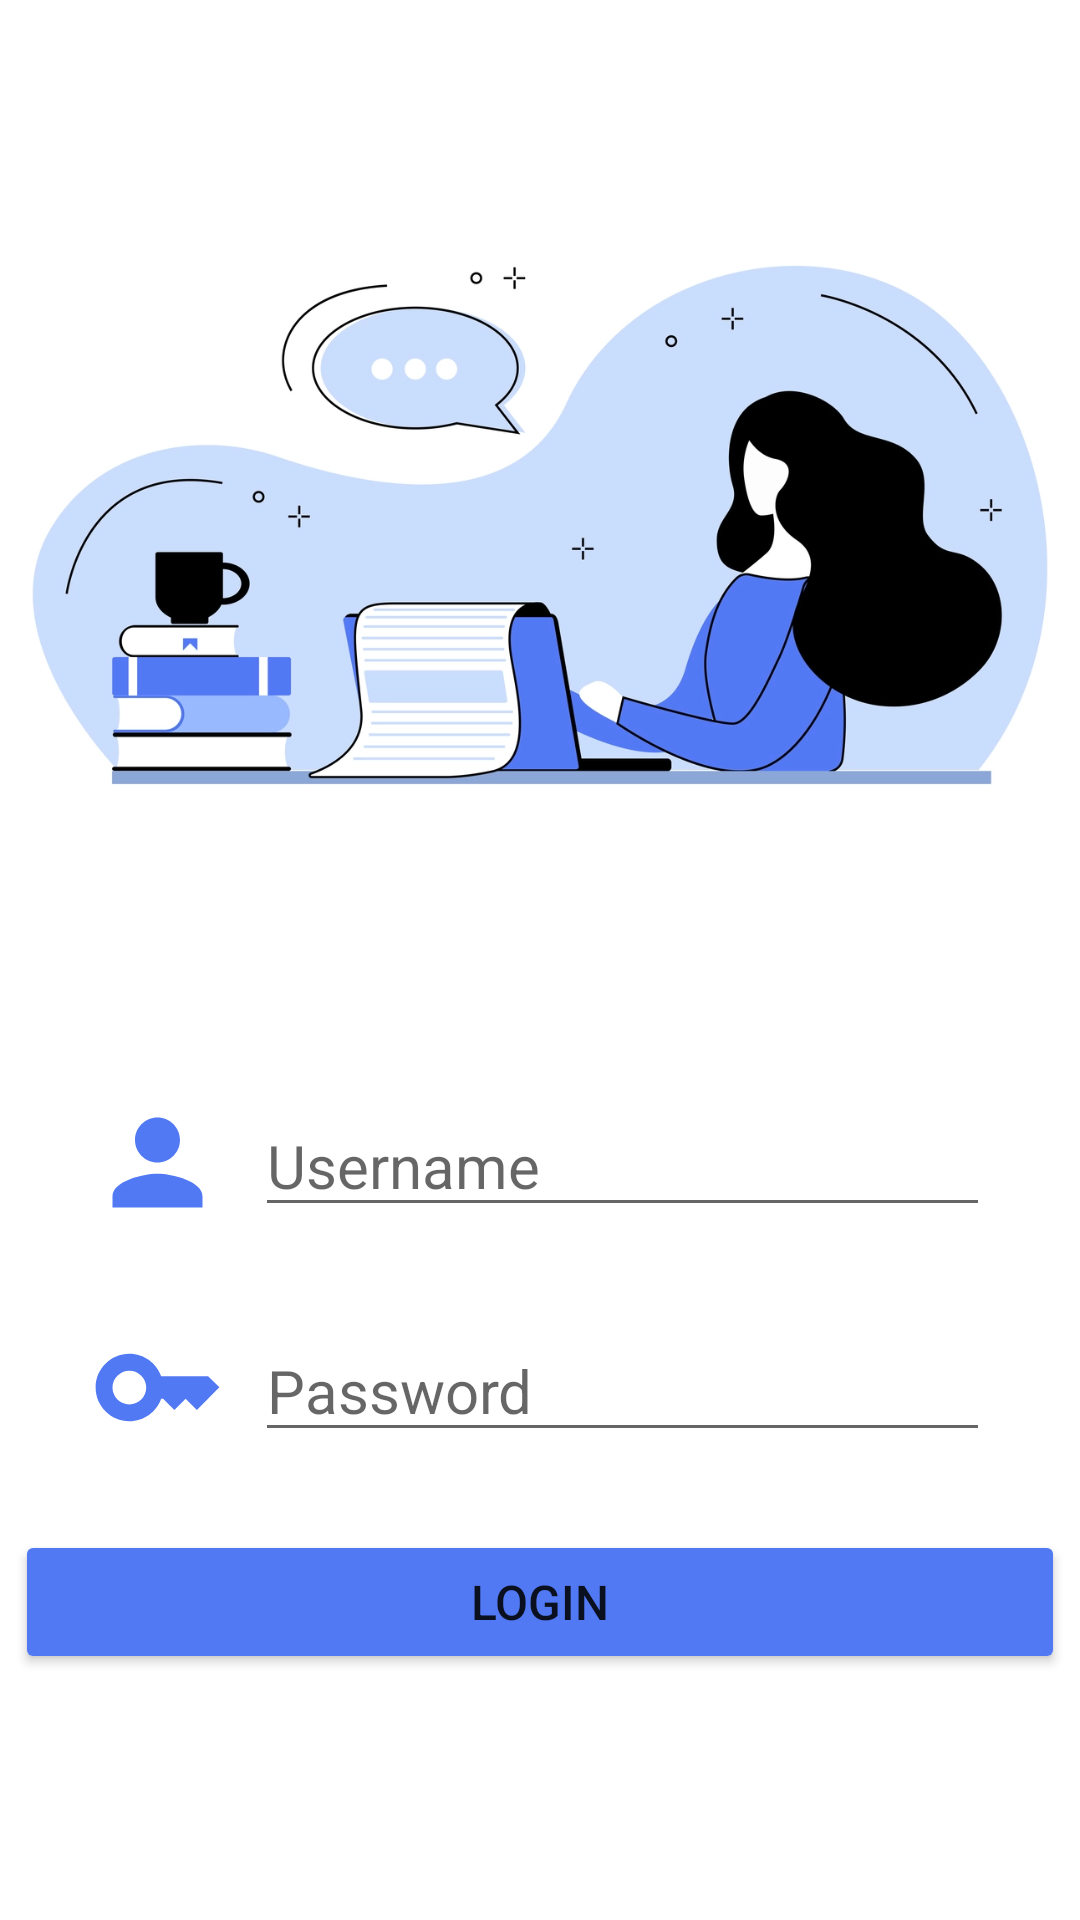

Where to tap for icons on this 1080w x 1920h app screen, as (x,y):
key: (157,1387)
person: (157,1162)
